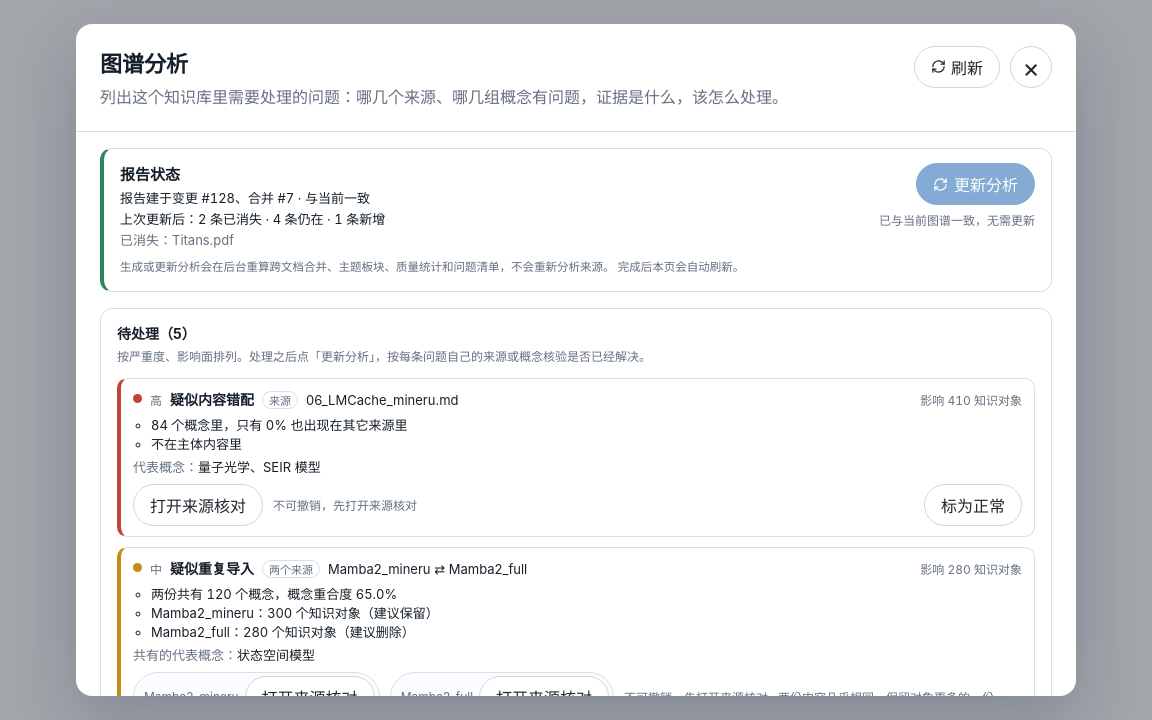
来源已经不在了：打开来源核对失败时如实说，而不是叫人稍后重试
The image size is (1152, 720).
Click the button "打开来源核对" below "疑似内容错配" at (198,504), box [133, 484, 263, 526]
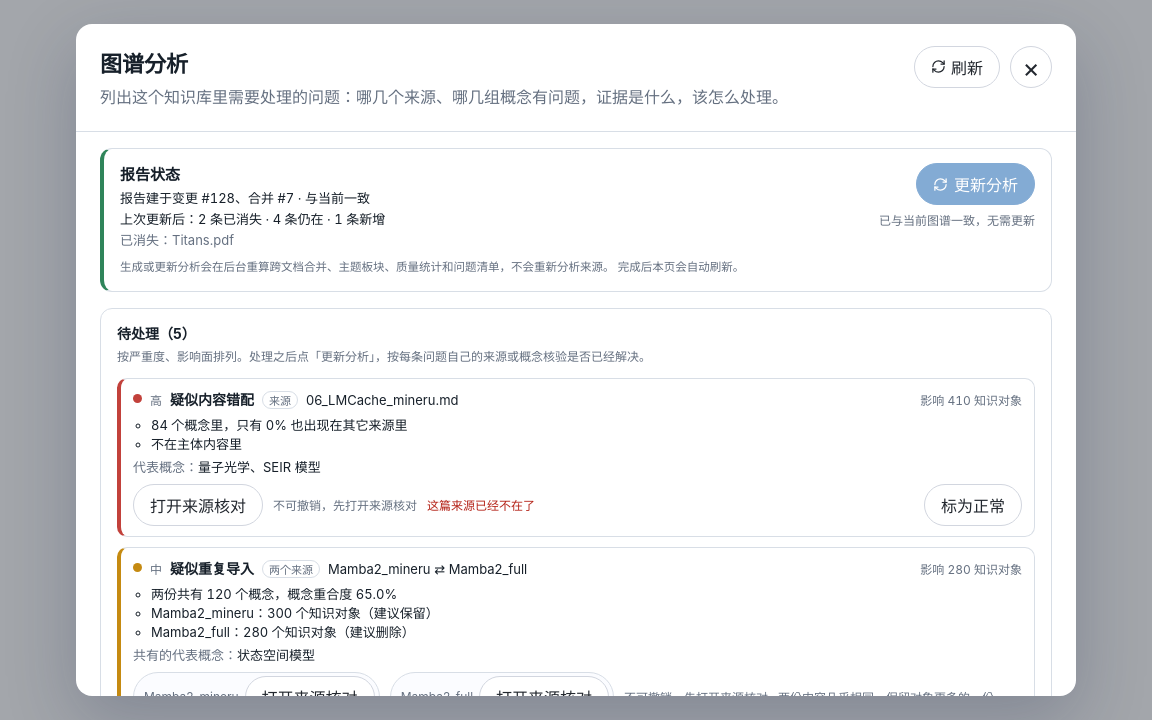
Check: the text "这篇来源已经不在了" is shown, box [427, 496, 535, 513]
